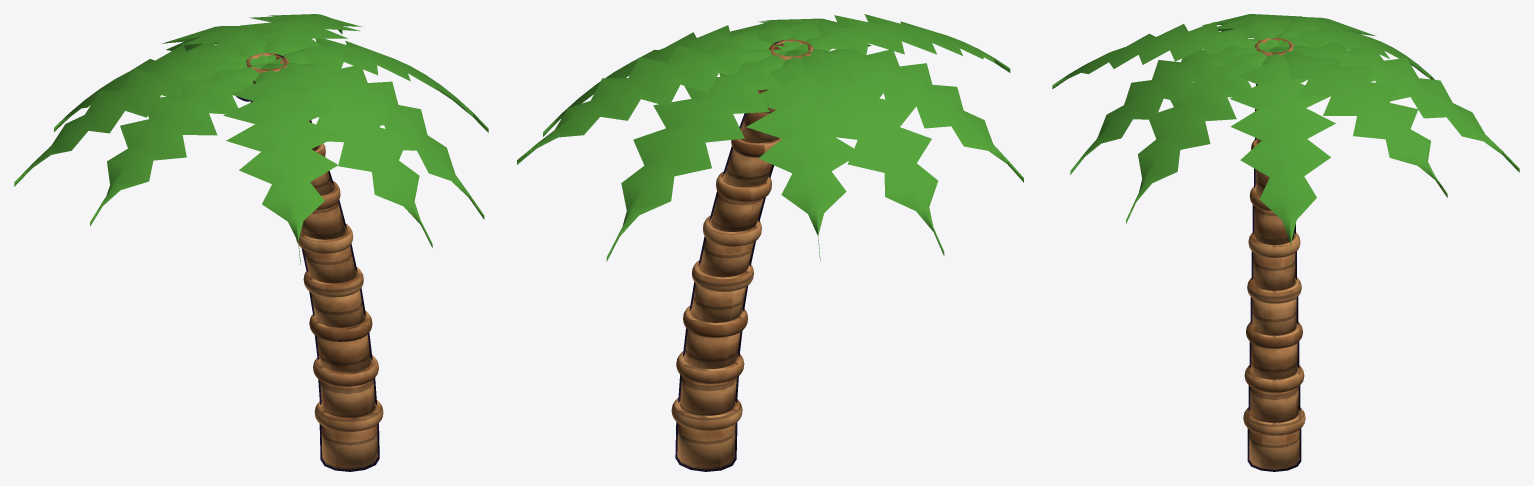
The model's file is palm0.glb.
3 views of the same model, side by side, from view 1: azimuth 30°, elevation 25°; view 2: azimuth 150°, elevation 25°; view 3: azimuth 270°, elevation 25° (orthographic). The views are drawn at different scales.
Parts seen in each view (by area): view 1: palm0; view 2: palm0; view 3: palm0.
Part boxes in pixels (x1,y1,x2,y2): palm0: (14, 14, 488, 471); palm0: (517, 14, 1023, 471); palm0: (1052, 14, 1519, 471).
Size of the model in its own units: 2.87 by 2.67 by 2.97.
Materials: 4 (1 with a texture image).
